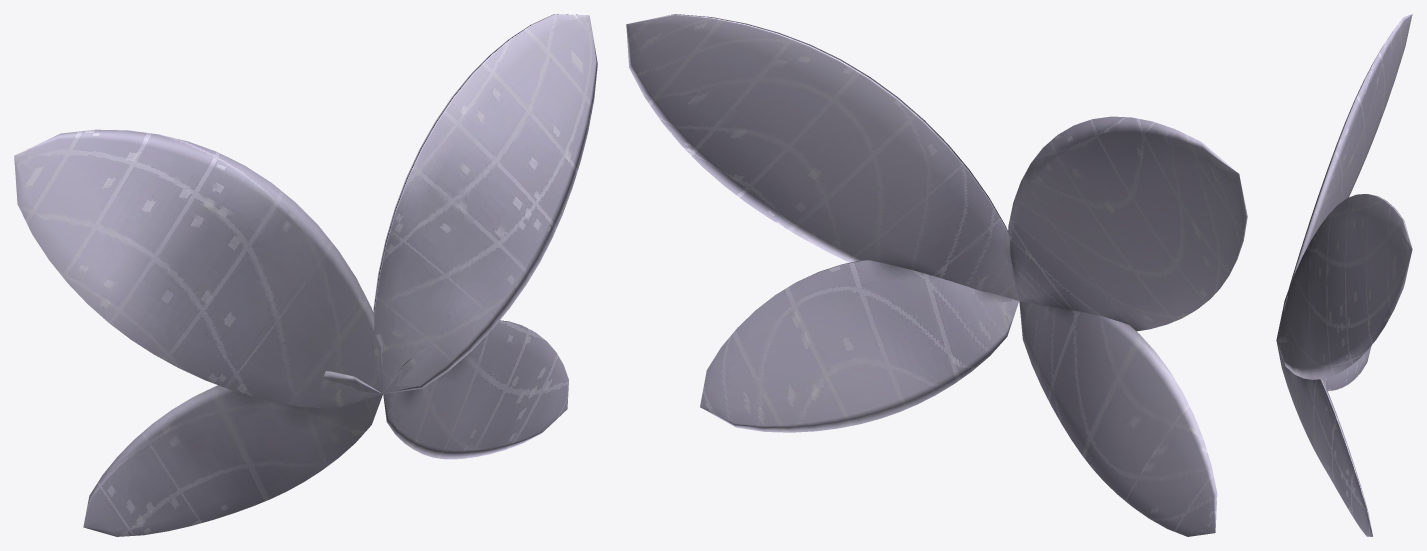
File: fairywings.glb
3 views of the same model, side by side, from view 1: azimuth 30°, elevation 25°; view 2: azimuth 150°, elevation 25°; view 3: azimuth 270°, elevation 25° (orthographic). The views are drawn at different scales.
Visible parts, largest first — view 1: fairywings_w0l, fairywings_w0r, fairywings_w1l, fairywings_w1r; view 2: fairywings_w0r, fairywings_w0l, fairywings_w1r, fairywings_w1l; view 3: fairywings_w0r, fairywings_w0l, fairywings_w1r, fairywings_w1l.
Boxes of the visible parts, <box> form: fairywings_w0l: <box>14,129,383,408</box>; fairywings_w0r: <box>372,14,597,393</box>; fairywings_w1l: <box>83,371,382,536</box>; fairywings_w1r: <box>383,320,568,459</box>; fairywings_w0r: <box>626,14,1019,300</box>; fairywings_w0l: <box>1008,116,1247,331</box>; fairywings_w1r: <box>700,260,1018,432</box>; fairywings_w1l: <box>1019,301,1217,536</box>; fairywings_w0r: <box>1276,194,1412,379</box>; fairywings_w0l: <box>1278,14,1412,329</box>; fairywings_w1r: <box>1276,334,1372,536</box>; fairywings_w1l: <box>1322,346,1371,391</box>.
Bounding box in the file's own units: 12.83 × 8.41 × 3.11.
Materials: 1 (1 with a texture image).
